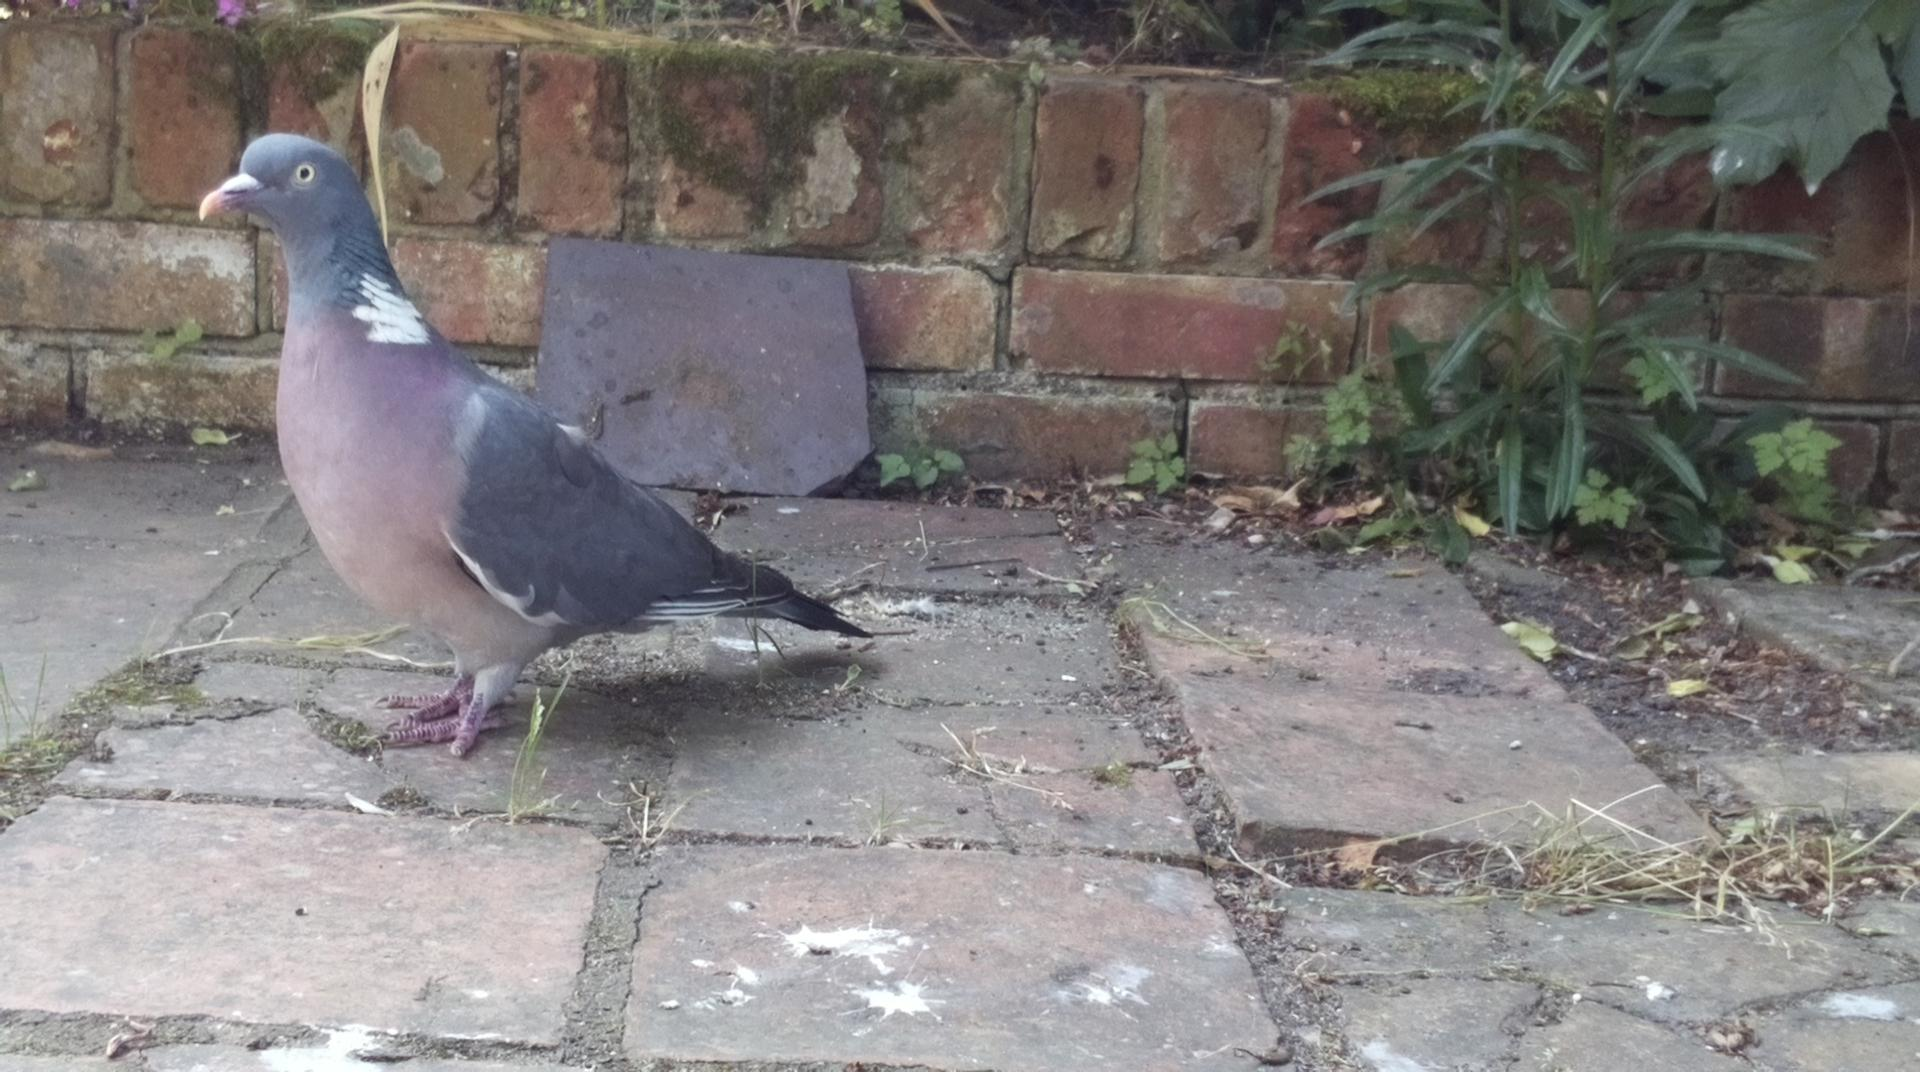wood pigeon: (200, 134, 876, 761)
